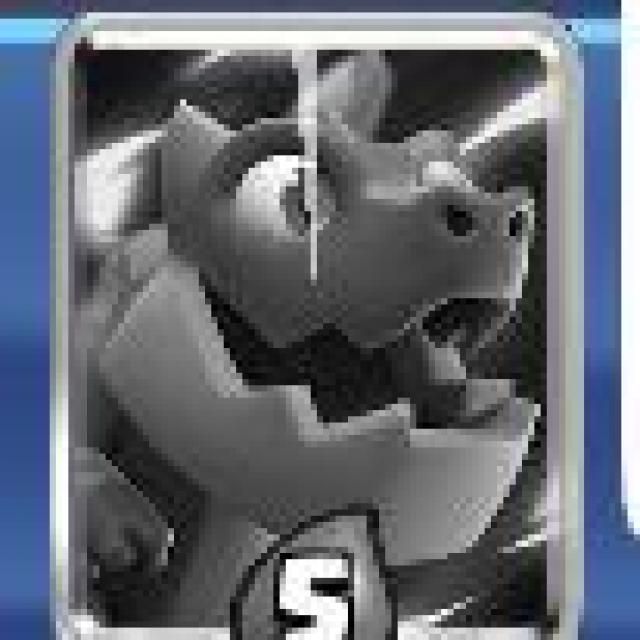Electro_Dragon: (51, 8, 584, 640)
